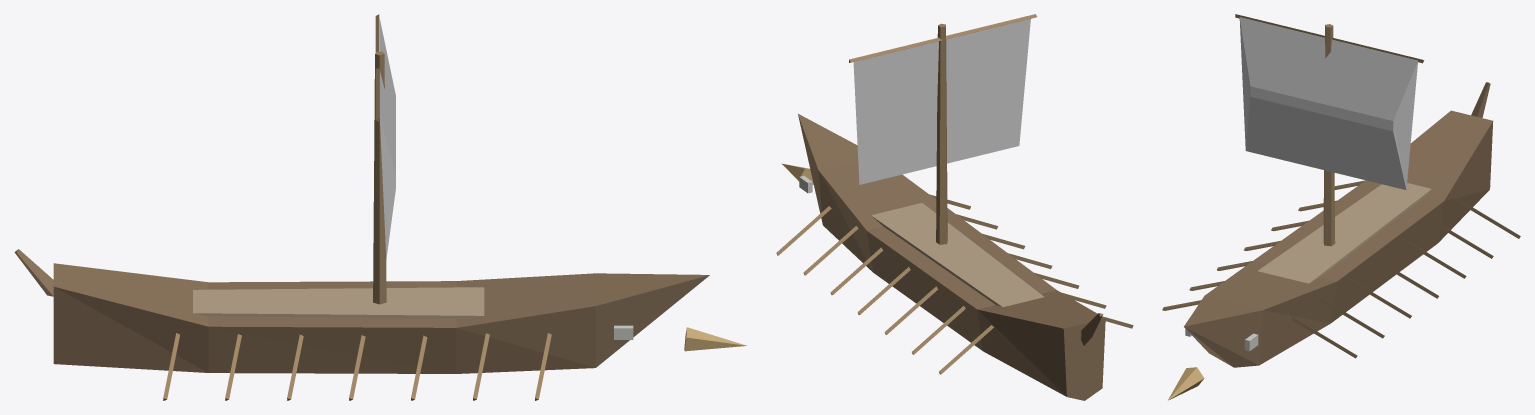
The model's file is trireme.glb.
The picture shows the model from 3 angles, left to right: view 1: azimuth 30°, elevation 25°; view 2: azimuth 150°, elevation 25°; view 3: azimuth 270°, elevation 25°; orthographic projection. The views are drawn at different scales.
Visible parts, largest first — view 1: LOD0; view 2: LOD0; view 3: LOD0.
Boxes of the visible parts, x1,y1,x2,y2 form: LOD0: (14,14,746,400); LOD0: (776,14,1133,400); LOD0: (1162,14,1520,400).
Size of what is drawn, in the model's own units: 1.95 by 1.05 by 1.25.
